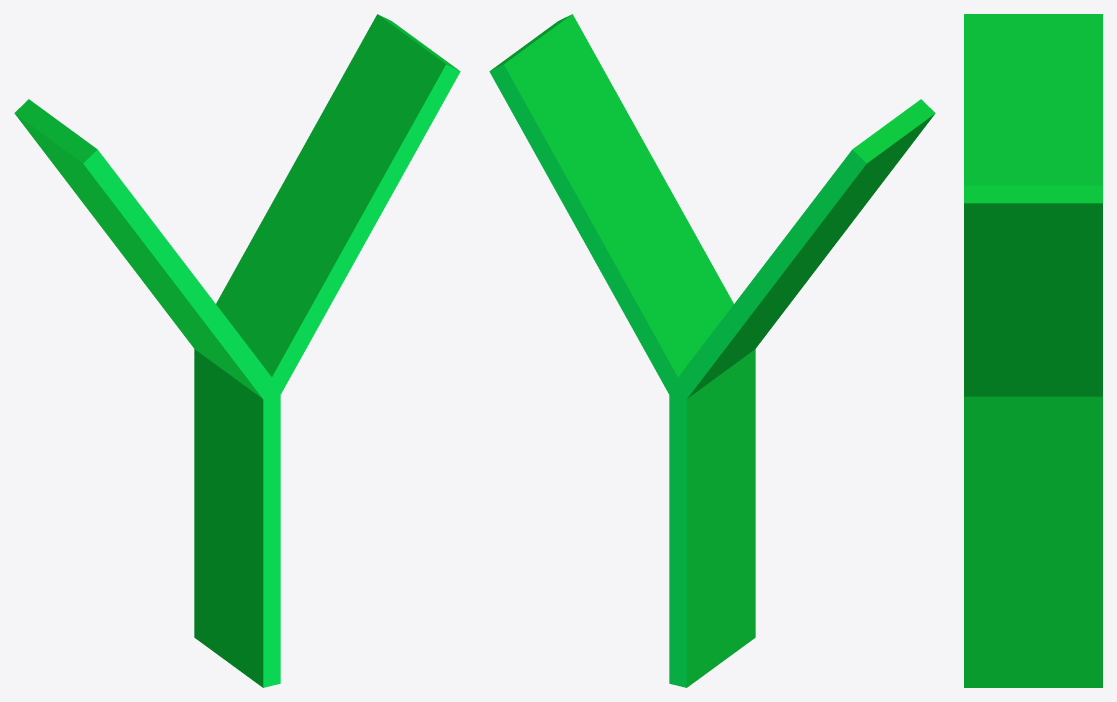
The picture shows the model from 3 angles, left to right: view 1: azimuth 30°, elevation 25°; view 2: azimuth 150°, elevation 25°; view 3: azimuth 270°, elevation 25°; orthographic projection.
Visible parts, largest first — view 1: y_AlphaProta_Green; view 2: y_AlphaProta_Green; view 3: y_AlphaProta_Green.
Boxes of the visible parts, x1,y1,x2,y2 form: y_AlphaProta_Green: (14, 14, 460, 687); y_AlphaProta_Green: (489, 14, 935, 687); y_AlphaProta_Green: (964, 14, 1102, 687).
Size of what is drawn, in the model's own units: 0.1425 by 0.2089 by 0.045.
2 materials, 2 textured.
